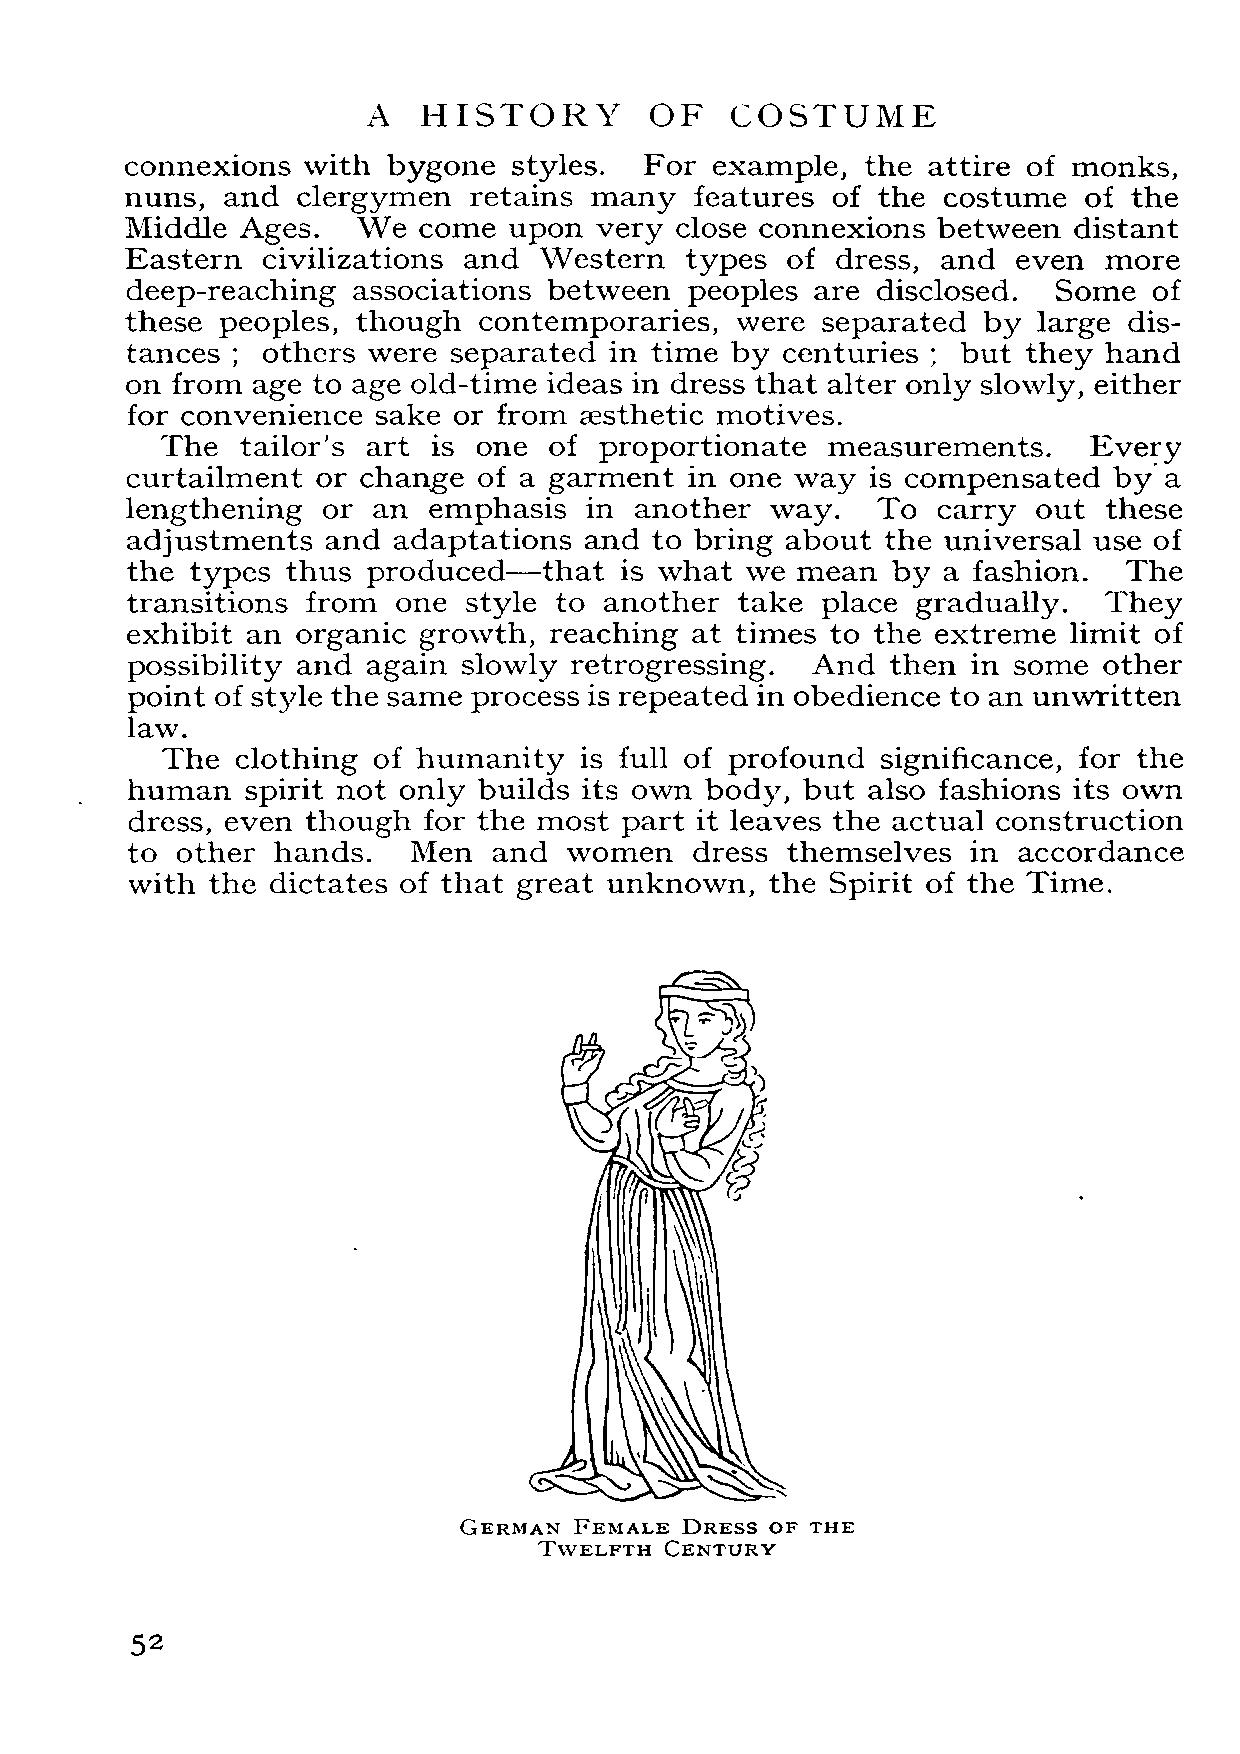chapter: (366, 99, 939, 130)
content: (119, 152, 1188, 1559)
content_pagenumber: (129, 1627, 165, 1660)
